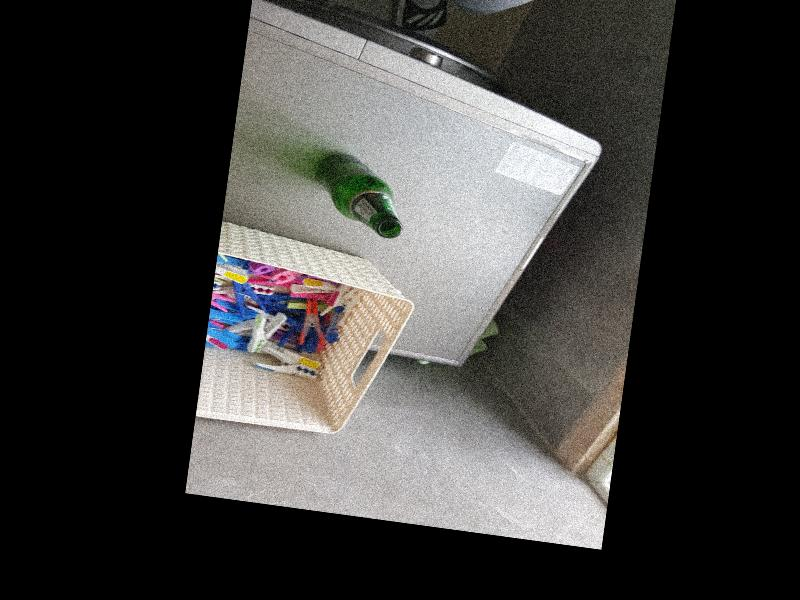Beer: (309, 149, 412, 239)
